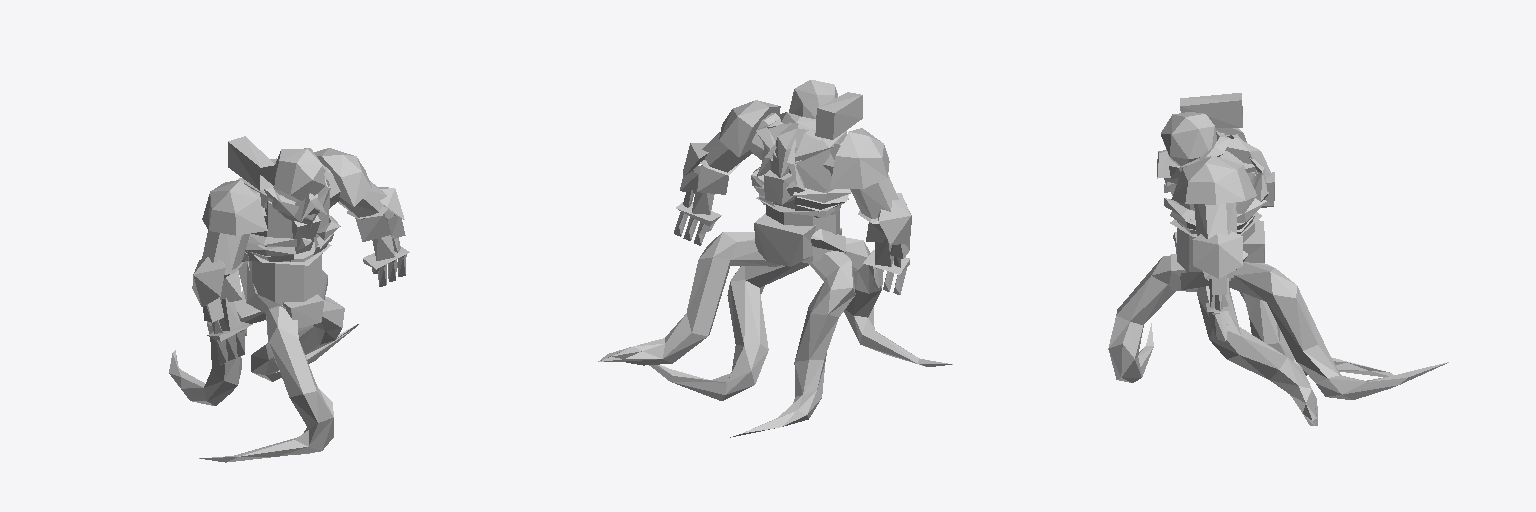
The model's file is TentacleEnemy.obj.
3 renders of one model, left to right at view 1: azimuth 30°, elevation 25°; view 2: azimuth 150°, elevation 25°; view 3: azimuth 270°, elevation 25°, orthographic.
Visible parts, largest first — view 1: Cube.021_Cube.059; view 2: Cube.021_Cube.059; view 3: Cube.021_Cube.059.
Part boxes in pixels (x1,y1,x2,y2): Cube.021_Cube.059: (169, 136, 409, 462); Cube.021_Cube.059: (598, 80, 952, 437); Cube.021_Cube.059: (1108, 93, 1448, 425).
Size of the model in its own units: 2.18 by 2.43 by 2.67.